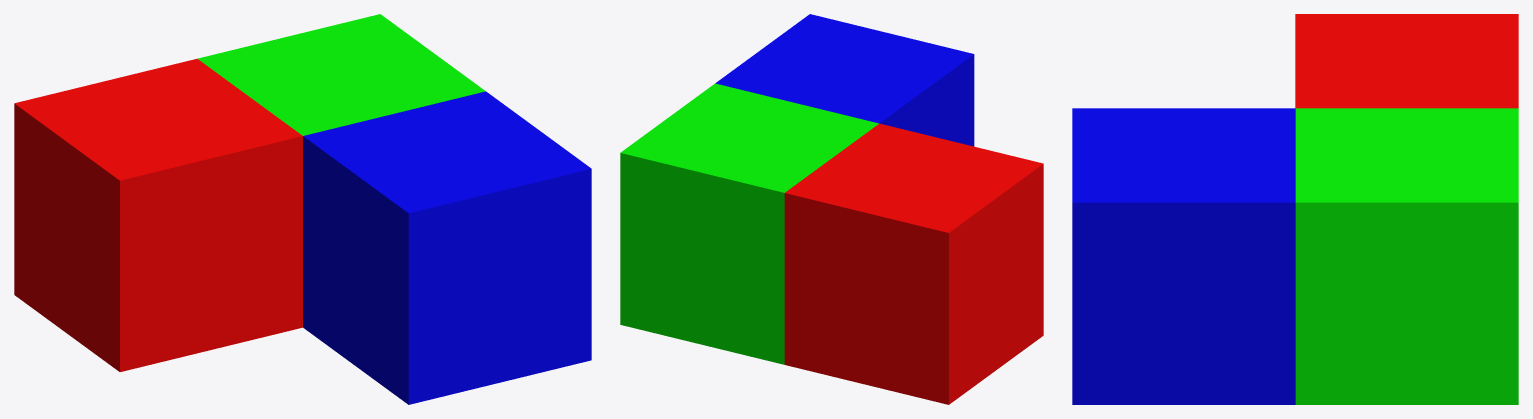
3 renders of one model, left to right at view 1: azimuth 30°, elevation 25°; view 2: azimuth 150°, elevation 25°; view 3: azimuth 270°, elevation 25°, orthographic. The views are drawn at different scales.
Visible parts, largest first — view 1: Object_3_Red_0, Object_1_Blue_0, Object_2_Green_0; view 2: Object_3_Red_0, Object_2_Green_0, Object_1_Blue_0; view 3: Object_1_Blue_0, Object_2_Green_0, Object_3_Red_0.
Boxes of the visible parts, x1,y1,x2,y2 form: Object_3_Red_0: (14, 58, 302, 371); Object_1_Blue_0: (303, 91, 591, 404); Object_2_Green_0: (198, 14, 485, 135); Object_3_Red_0: (784, 123, 1043, 404); Object_2_Green_0: (620, 83, 878, 364); Object_1_Blue_0: (715, 14, 974, 146); Object_1_Blue_0: (1072, 108, 1295, 404); Object_2_Green_0: (1295, 108, 1518, 404); Object_3_Red_0: (1295, 14, 1518, 108).
Bounding box in the file's own units: 0.002 × 0.001 × 0.002.
